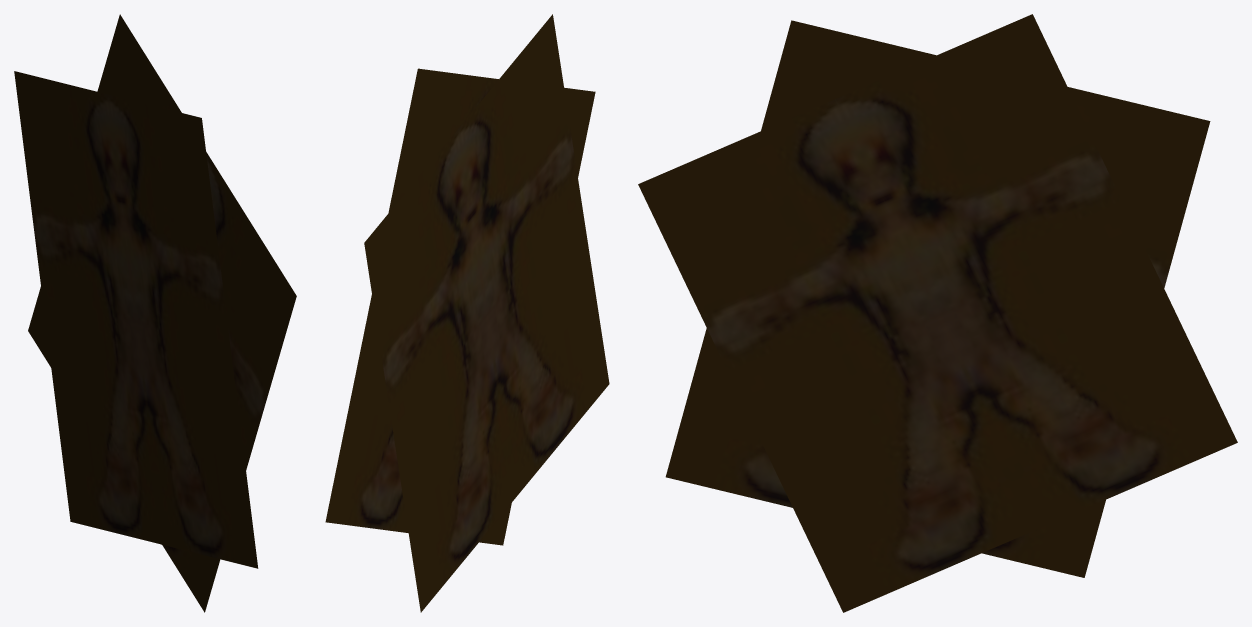
The model's file is sign1_eng_c_icon_voodoo.fbx.
3 views of the same model, side by side, from view 1: azimuth 30°, elevation 25°; view 2: azimuth 150°, elevation 25°; view 3: azimuth 270°, elevation 25° (orthographic). The views are drawn at different scales.
Visible parts, largest first — view 1: icons; view 2: icons; view 3: icons.
Boxes of the visible parts, x1=… form: icons: x1=14, y1=14, x2=296, y2=612; icons: x1=325, y1=14, x2=609, y2=612; icons: x1=638, y1=14, x2=1237, y2=612.
Size of the model in its own units: 16.67 by 326 by 296.
1 material, 1 textured.
